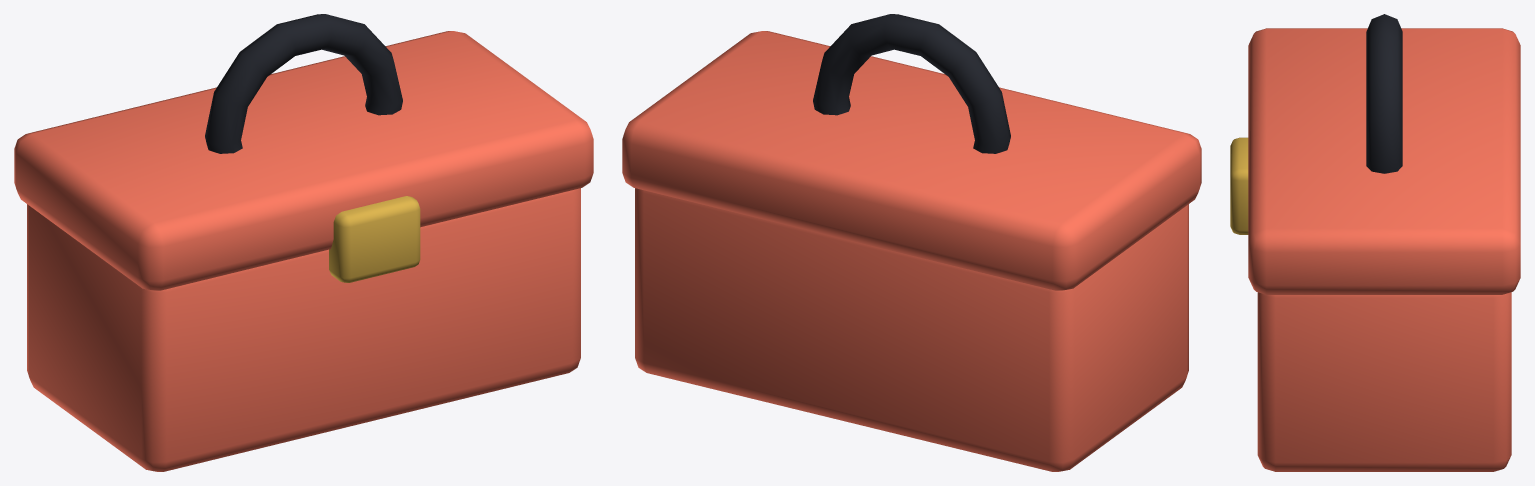
File: Decor_Toolbox.fbx
3 views of the same model, side by side, from view 1: azimuth 30°, elevation 25°; view 2: azimuth 150°, elevation 25°; view 3: azimuth 270°, elevation 25° (orthographic). The views are drawn at different scales.
Parts seen in each view (by area): view 1: Toolbox_Body, Toolbox_Lid, Toolbox_Handle, Toolbox_Latch; view 2: Toolbox_Body, Toolbox_Lid, Toolbox_Handle; view 3: Toolbox_Lid, Toolbox_Body, Toolbox_Handle, Toolbox_Latch.
Part boxes in pixels (box(x1,y1,x2,y2)): Toolbox_Body: box(27, 188, 580, 471); Toolbox_Lid: box(14, 31, 593, 290); Toolbox_Handle: box(205, 14, 402, 153); Toolbox_Latch: box(329, 196, 420, 282); Toolbox_Body: box(635, 188, 1188, 471); Toolbox_Lid: box(622, 31, 1201, 290); Toolbox_Handle: box(813, 14, 1010, 153); Toolbox_Lid: box(1248, 28, 1520, 294); Toolbox_Body: box(1257, 292, 1511, 471); Toolbox_Handle: box(1366, 14, 1402, 173); Toolbox_Latch: box(1230, 137, 1248, 234).
Bounding box in the file's own units: 5.6 × 4.27 × 3.2.
